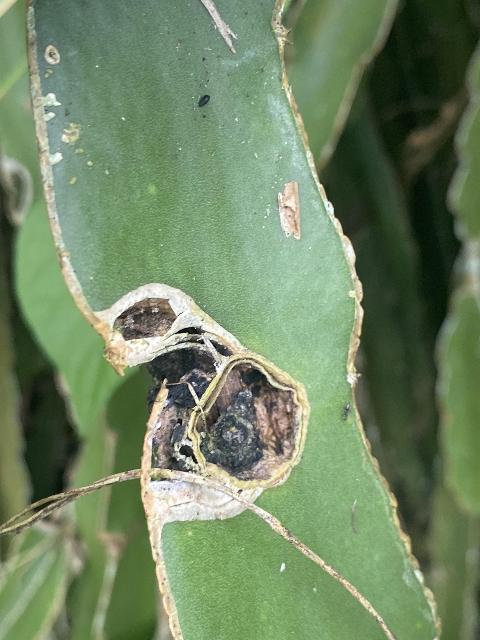stemcanker: (96, 286, 316, 516)
